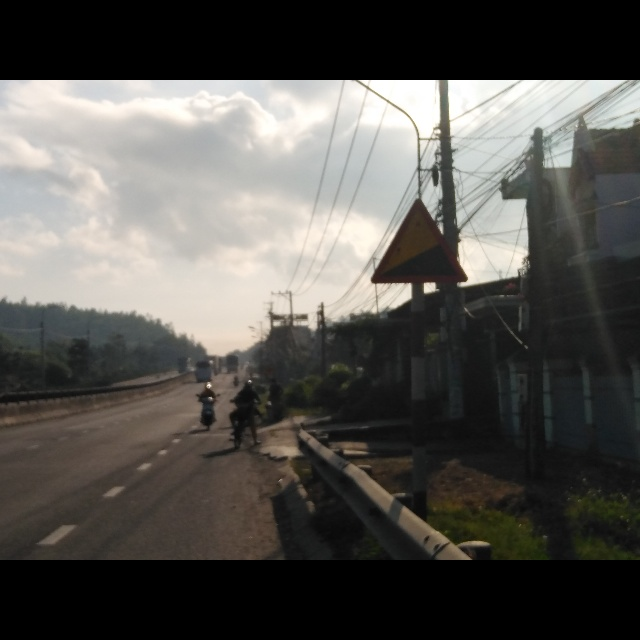Dốc lên nguy hiểm: (369, 194, 468, 284)
